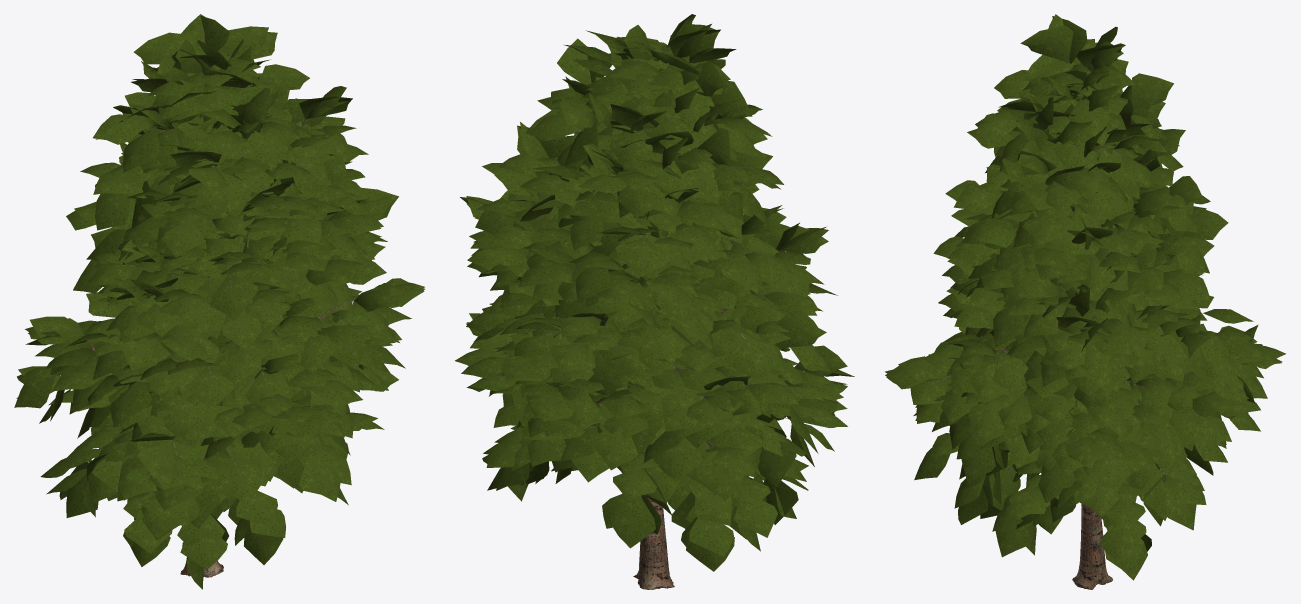
The model's file is tree.glb.
3 views of the same model, side by side, from view 1: azimuth 30°, elevation 25°; view 2: azimuth 150°, elevation 25°; view 3: azimuth 270°, elevation 25° (orthographic).
Parts seen in each view (by area): view 1: Tree; view 2: Tree; view 3: Tree.
Boxes of the visible parts, box(x1,y1,x2,y2) form: Tree: box(14, 14, 425, 589); Tree: box(455, 14, 854, 589); Tree: box(885, 14, 1285, 589).
Bounding box in the file's own units: 4 × 6 × 4.
2 materials, 2 textured.
